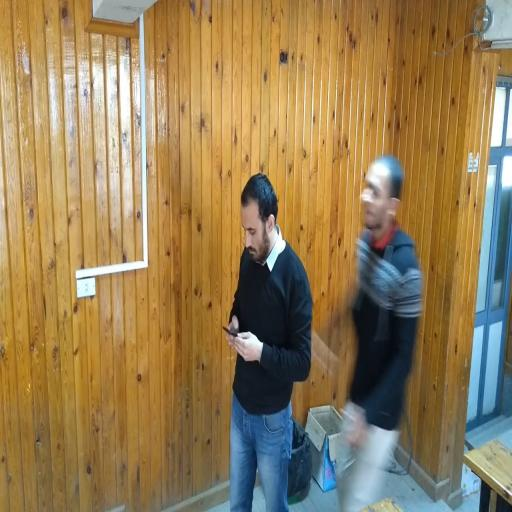nao-violencia: (216, 141, 426, 511)
